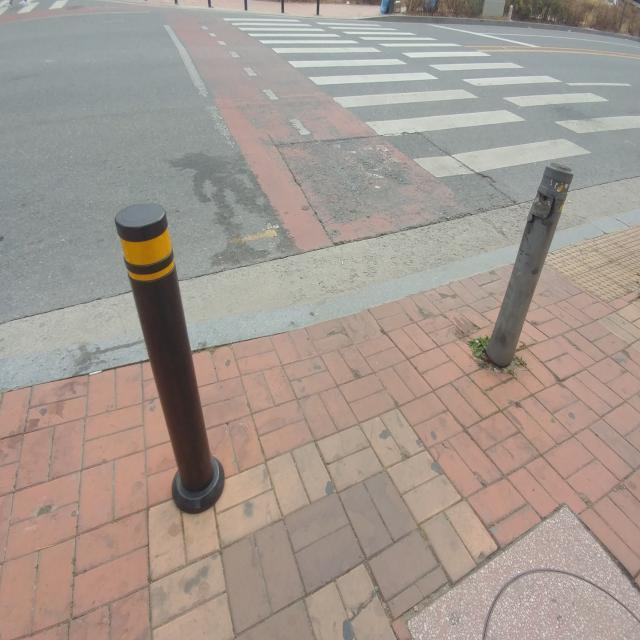pole: (110, 198, 233, 518), (484, 156, 572, 367)
